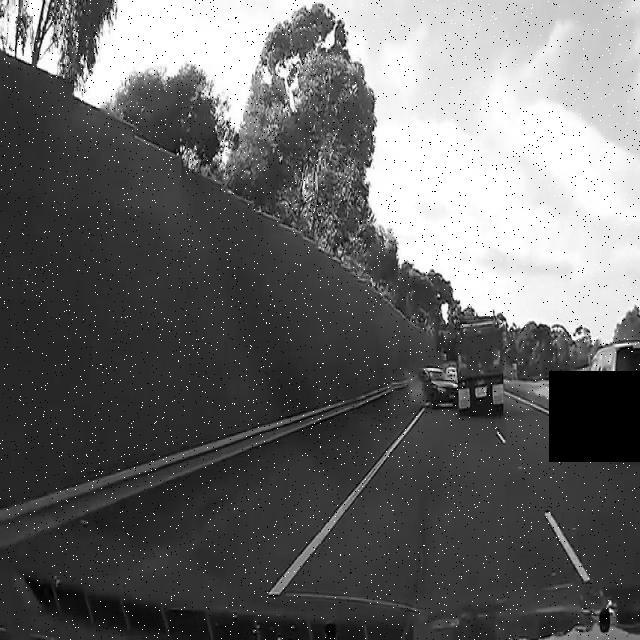moderate: (415, 309, 508, 423)
